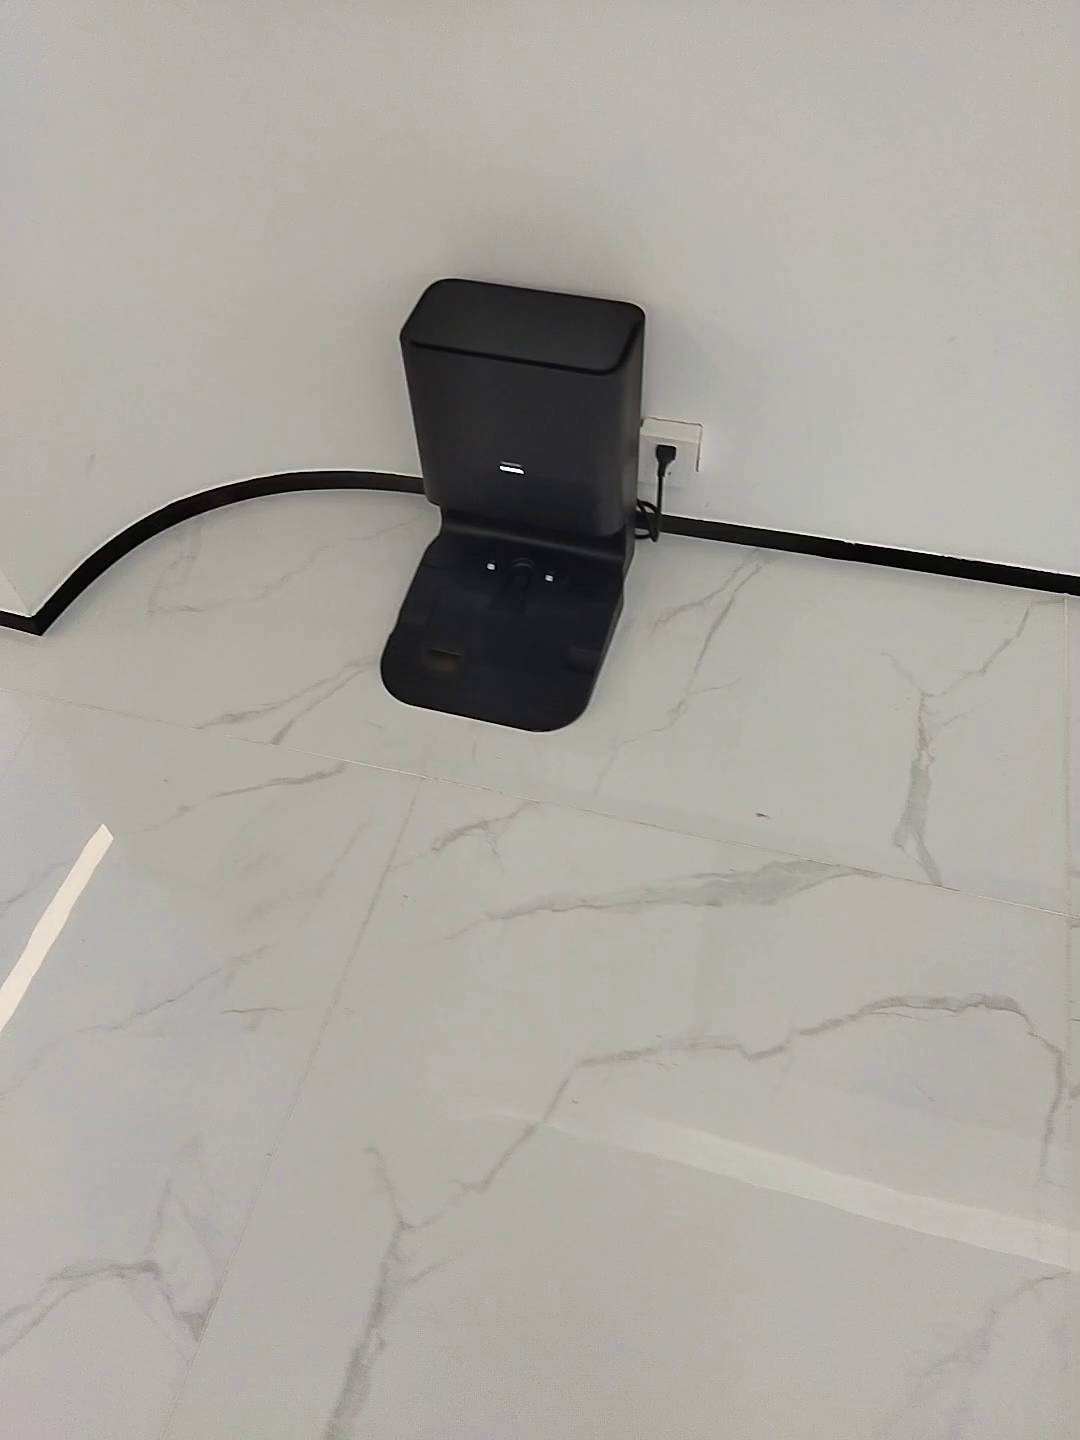dust collecting barrel: (379, 279, 646, 735)
